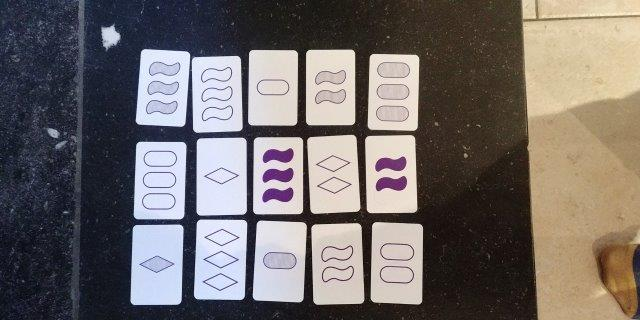1ED: (199, 141, 243, 212)
1EP: (250, 52, 295, 123)
1HD: (135, 226, 179, 302)
1HP: (258, 223, 301, 298)
2ED: (311, 139, 354, 208)
2EP: (375, 225, 417, 301)
2EW: (315, 226, 357, 300)
2FW: (369, 136, 413, 211)
2HW: (310, 51, 349, 123)
3ED: (198, 220, 242, 297)
3EP: (137, 144, 181, 214)
3EW: (194, 59, 238, 127)
3FW: (255, 139, 300, 211)
3HP: (370, 56, 415, 127)
3HW: (142, 53, 182, 121)
